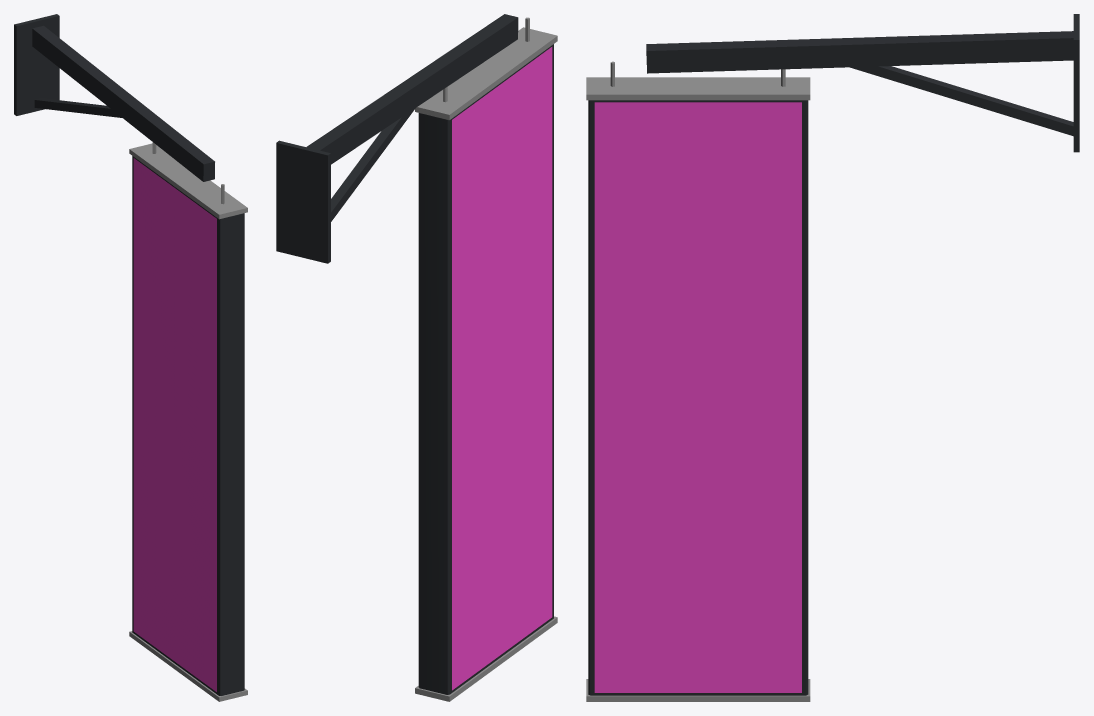
Rendered from St_HangingSign_E.fbx.
3 views of the same model, side by side, from view 1: azimuth 30°, elevation 25°; view 2: azimuth 150°, elevation 25°; view 3: azimuth 270°, elevation 25° (orthographic). The views are drawn at different scales.
Parts seen in each view (by area): view 1: St_HangingSign_E_LOD0; view 2: St_HangingSign_E_LOD0; view 3: St_HangingSign_E_LOD0.
Boxes of the visible parts, bbox=[...] form: St_HangingSign_E_LOD0: bbox=[14, 14, 247, 701]; St_HangingSign_E_LOD0: bbox=[276, 14, 557, 701]; St_HangingSign_E_LOD0: bbox=[586, 14, 1079, 701].
Size of what is drawn, in the model's own units: 0.3 by 3.57 by 2.39.
